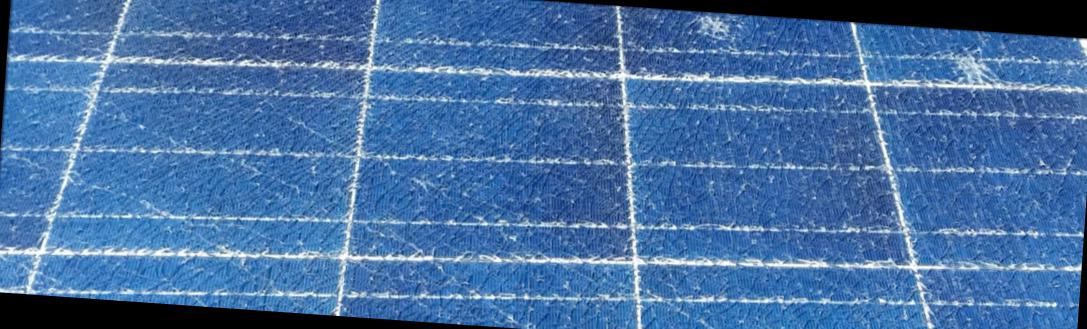Crack: (915, 43, 1027, 108), (676, 15, 751, 53)
